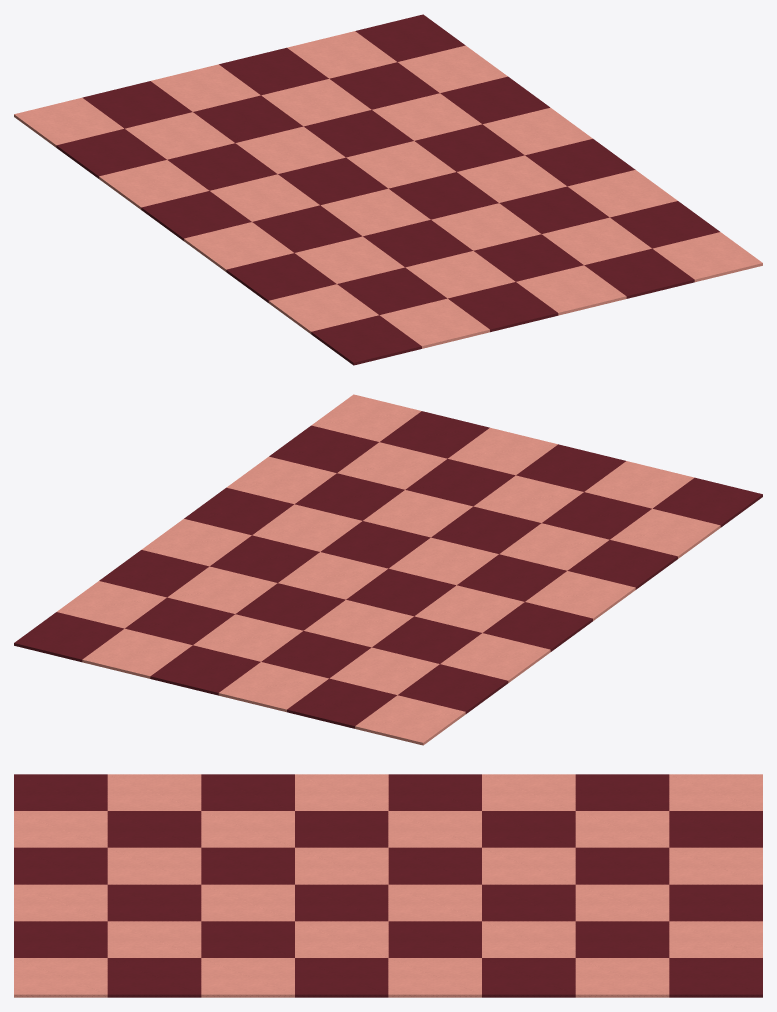
File: alfombra-cuadros-rosa-rojo-160x230.glb
3 views of the same model, one above another, from view 1: azimuth 30°, elevation 25°; view 2: azimuth 150°, elevation 25°; view 3: azimuth 270°, elevation 25° (orthographic). The views are drawn at different scales.
Visible parts, largest first — view 1: alfombra-cuadros; view 2: alfombra-cuadros; view 3: alfombra-cuadros.
Boxes of the visible parts, <box> form: alfombra-cuadros: <box>14,14,762,365</box>; alfombra-cuadros: <box>14,394,762,745</box>; alfombra-cuadros: <box>14,774,762,997</box>.
Bounding box in the file's own units: 1.6 × 0.01 × 2.3.
Materials: 2 (2 with a texture image).
